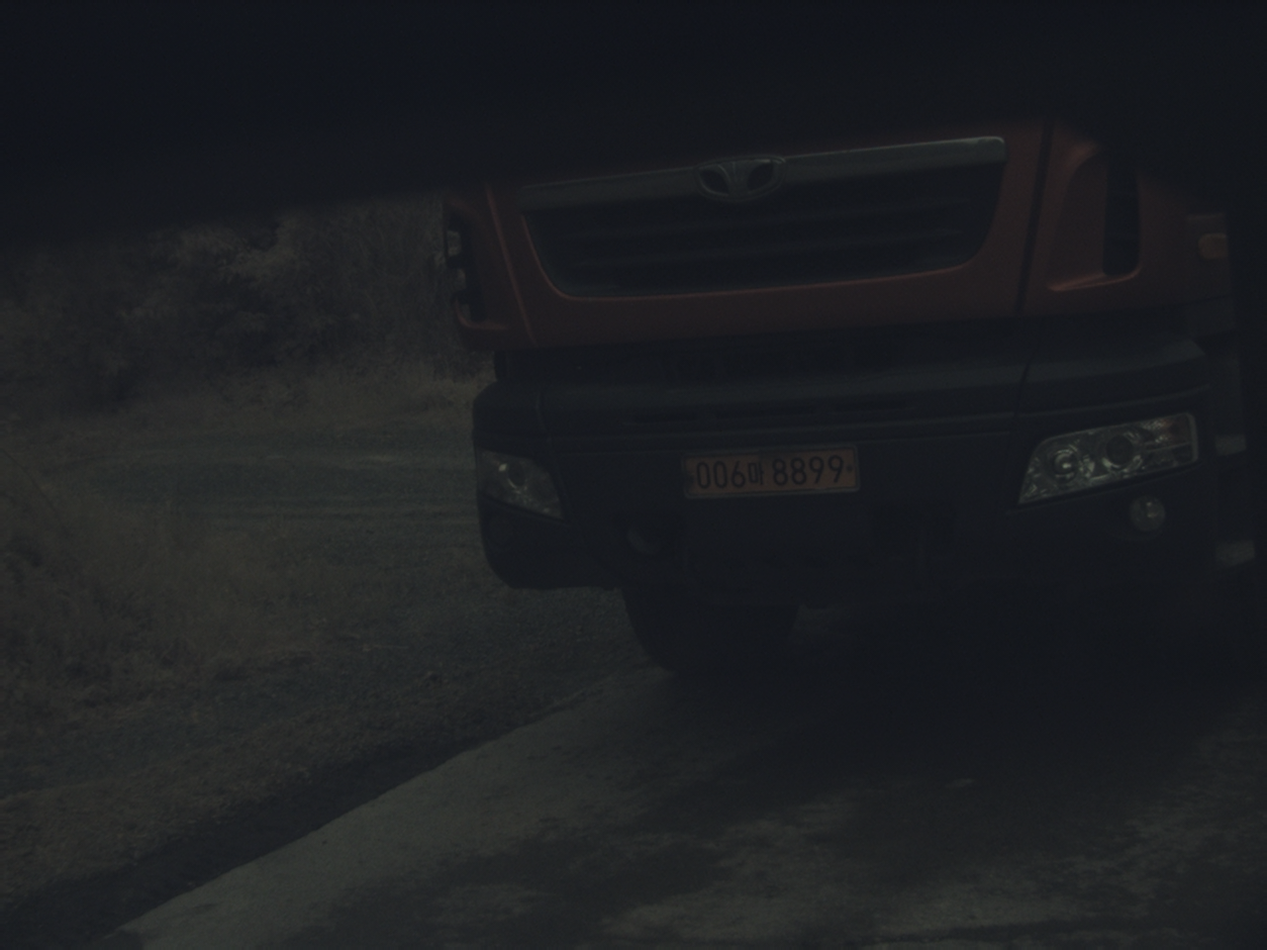license_plate: (683, 447, 859, 498)
truck: (445, 119, 1252, 670)
